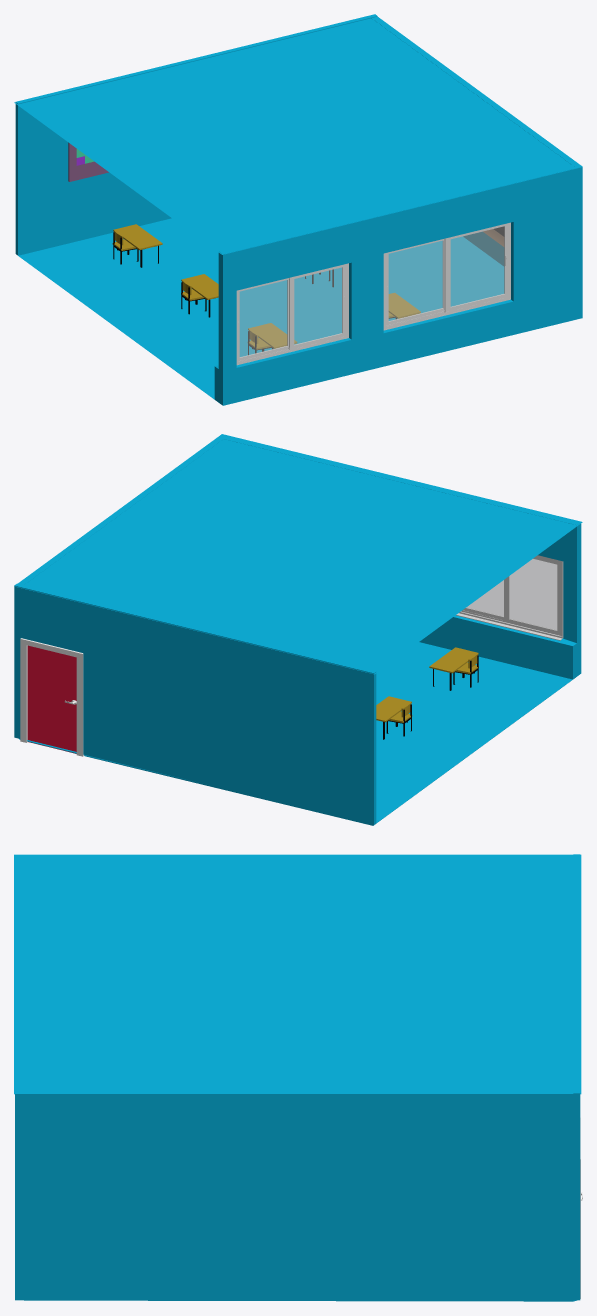
The model's file is classroom.glb.
3 renders of one model, top to bottom at view 1: azimuth 30°, elevation 25°; view 2: azimuth 150°, elevation 25°; view 3: azimuth 270°, elevation 25°, orthographic. The views are drawn at different scales.
Visible parts, largest first — view 1: WallsAndFloor, Roof, Window.R.001, Window.L.001, Window.R, Window.L, Desks, WindowFrame.001, Cube.006, WindowFrame; view 2: WallsAndFloor, Roof, Door, Window.L, Desks, DoorFrame, Window.R, WindowFrame; view 3: Roof, WallsAndFloor.
Part boxes in pixels (box(x1,y1,x2,y2)): WallsAndFloor: box(15, 14, 582, 405); Roof: box(14, 18, 581, 254); Window.R.001: box(444, 223, 507, 312); Window.L.001: box(386, 239, 444, 325); Window.R: box(288, 264, 345, 349); Window.L: box(238, 278, 288, 361); Desks: box(112, 224, 420, 354); WindowFrame.001: box(383, 222, 510, 330); Cube.006: box(68, 142, 108, 181); WindowFrame: box(236, 263, 348, 365); WallsAndFloor: box(14, 434, 581, 825); Roof: box(14, 434, 582, 674); Door: box(27, 645, 76, 753); Window.L: box(504, 556, 560, 635); Desks: box(376, 647, 478, 739); DoorFrame: box(20, 638, 84, 756); Window.R: box(463, 580, 504, 620); WindowFrame: box(459, 555, 563, 638); Roof: box(14, 854, 581, 1094); WallsAndFloor: box(15, 854, 580, 1301).
Bounding box in the file's own units: 40.2 × 16.55 × 40.31.
